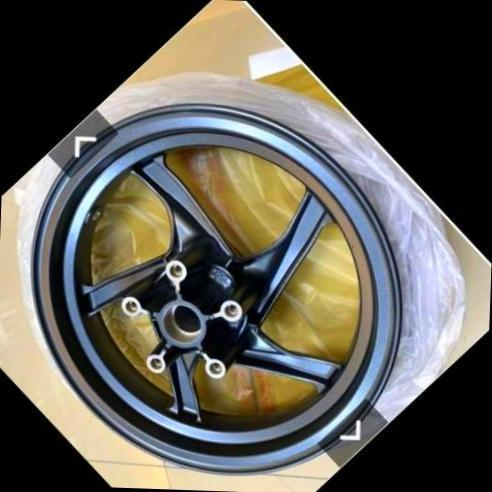hole: (160, 253, 192, 286), (200, 350, 230, 382), (116, 290, 146, 320), (216, 295, 244, 324), (142, 348, 169, 376)
